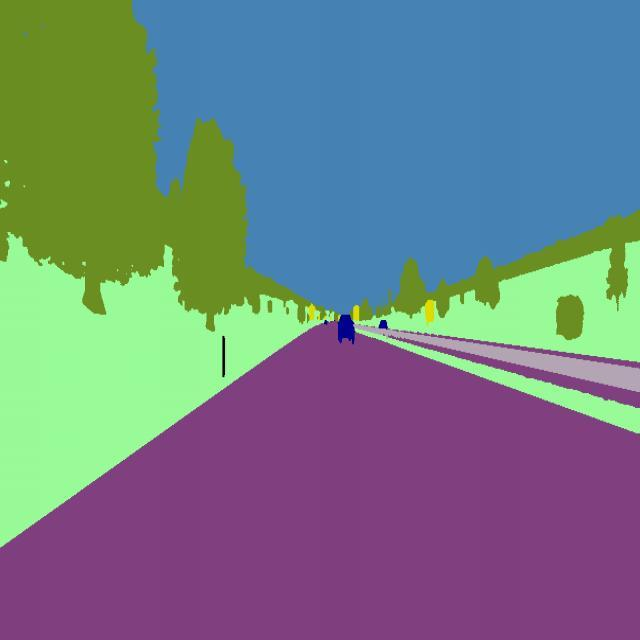safe: (338, 312, 358, 348), (378, 317, 390, 331)
